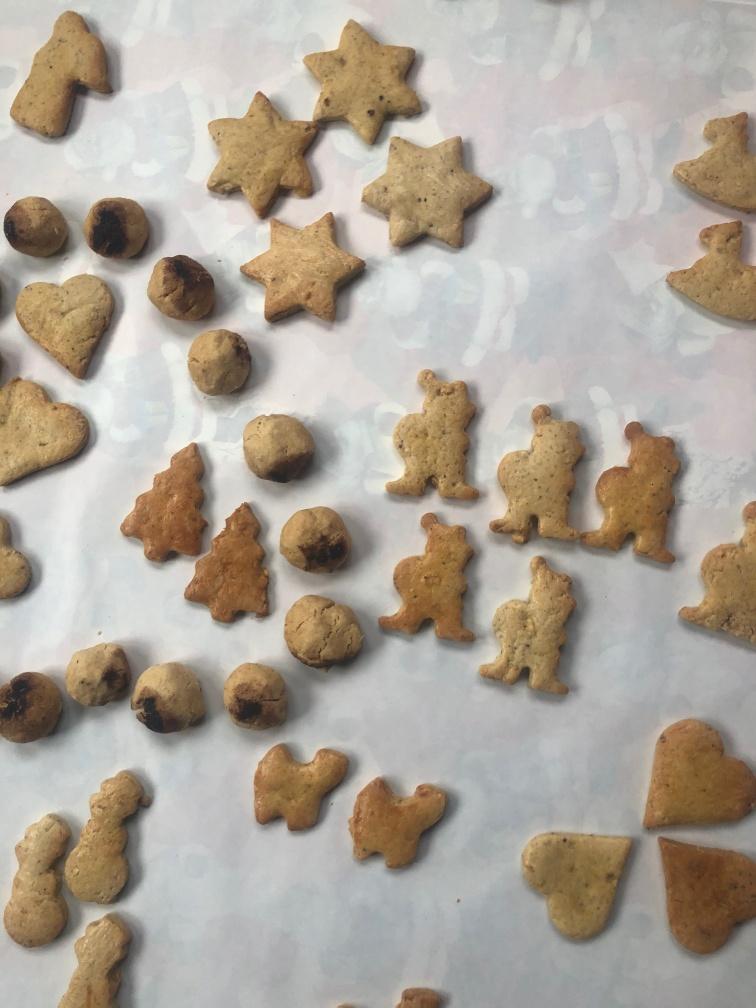angel: (5, 5, 122, 146)
christmas tree: (120, 426, 220, 577), (182, 495, 280, 635)
heart: (519, 823, 644, 945), (649, 834, 756, 964), (638, 715, 756, 832), (9, 267, 120, 376), (2, 374, 98, 494)
lamb: (349, 773, 462, 874), (248, 738, 355, 844), (660, 215, 756, 328), (667, 103, 756, 212)
santa claus: (581, 415, 688, 579), (374, 507, 485, 658), (479, 551, 590, 701), (483, 399, 586, 556), (381, 362, 488, 513), (678, 493, 756, 661)
snowball: (281, 590, 370, 672), (130, 656, 215, 737), (277, 504, 358, 585), (241, 412, 320, 490), (142, 249, 219, 329), (218, 659, 294, 737), (186, 322, 258, 404), (1, 660, 65, 751), (1, 187, 75, 265), (83, 194, 153, 275), (61, 638, 135, 712)
snowman: (65, 764, 161, 909), (3, 813, 78, 945), (50, 912, 141, 1004)
star: (298, 15, 433, 148), (360, 132, 499, 259), (238, 212, 373, 333), (204, 91, 324, 221)
